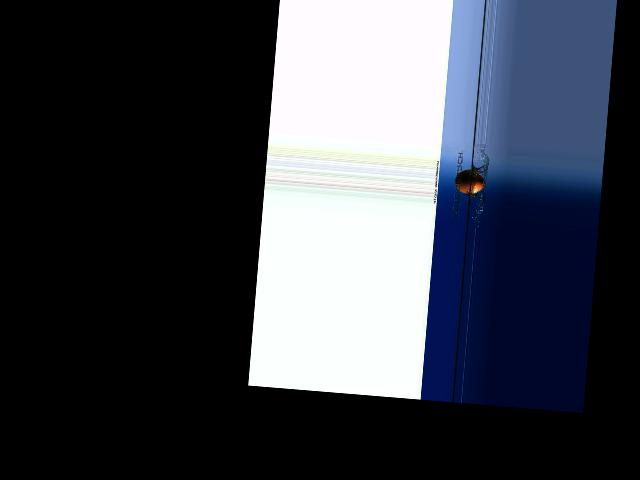egg: (454, 168, 485, 195)
